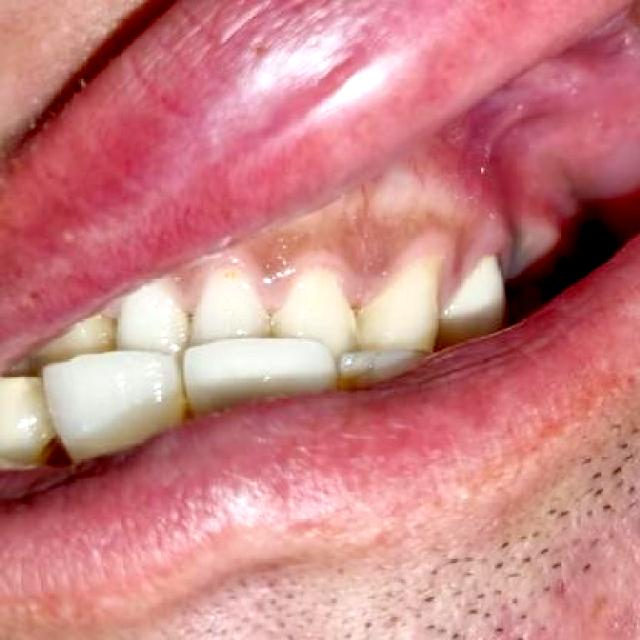Plaque: (32, 435, 58, 457)
